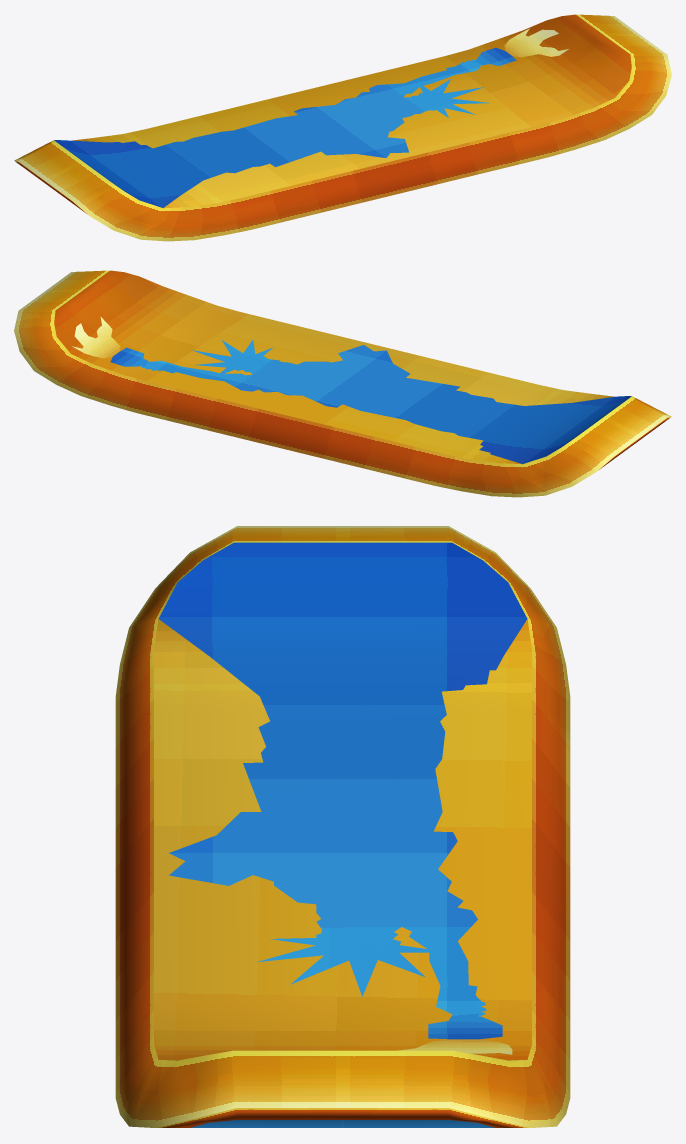
The model's file is Liberty.glb.
3 views of the same model, one above another, from view 1: azimuth 30°, elevation 25°; view 2: azimuth 150°, elevation 25°; view 3: azimuth 270°, elevation 25° (orthographic). The views are drawn at different scales.
Visible parts, largest first — view 1: Liberty; view 2: Liberty; view 3: Liberty.
Part boxes in pixels (x1,y1,x2,y2): Liberty: [14, 14, 671, 241]; Liberty: [14, 270, 671, 497]; Liberty: [115, 526, 570, 1127].
Bounding box in the file's own units: 8.35 × 0.7606 × 2.76.
1 material, 1 textured.
